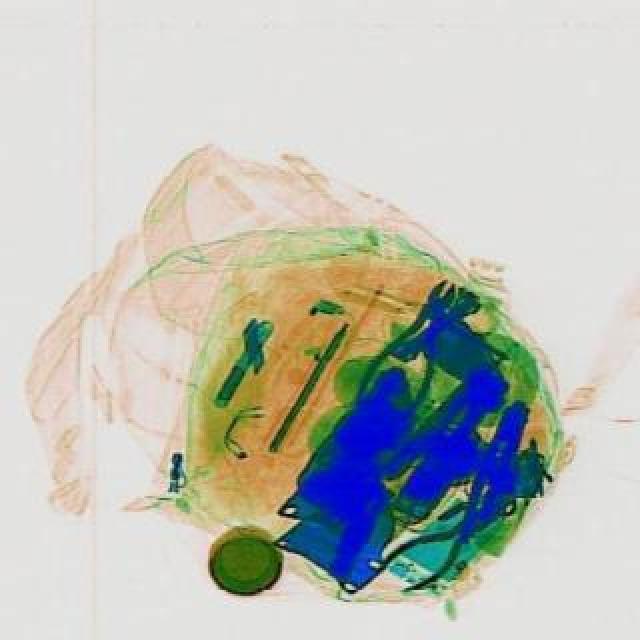wrench: (346, 266, 478, 434), (372, 484, 520, 600)
